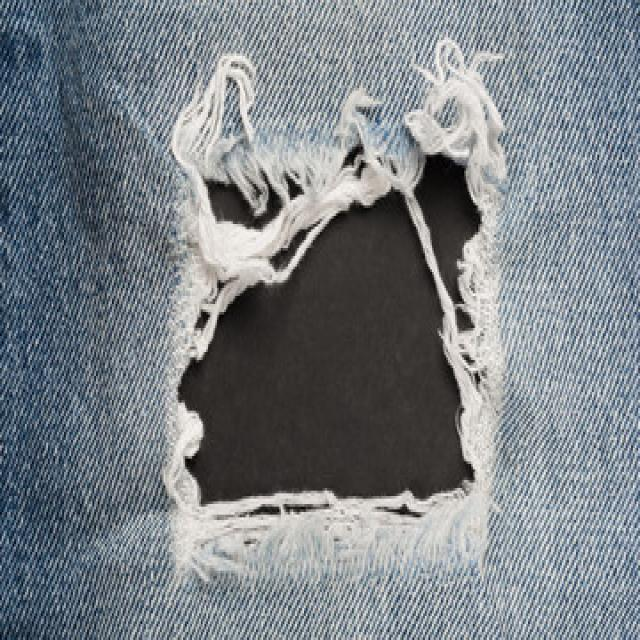Hole: (153, 55, 510, 583)
